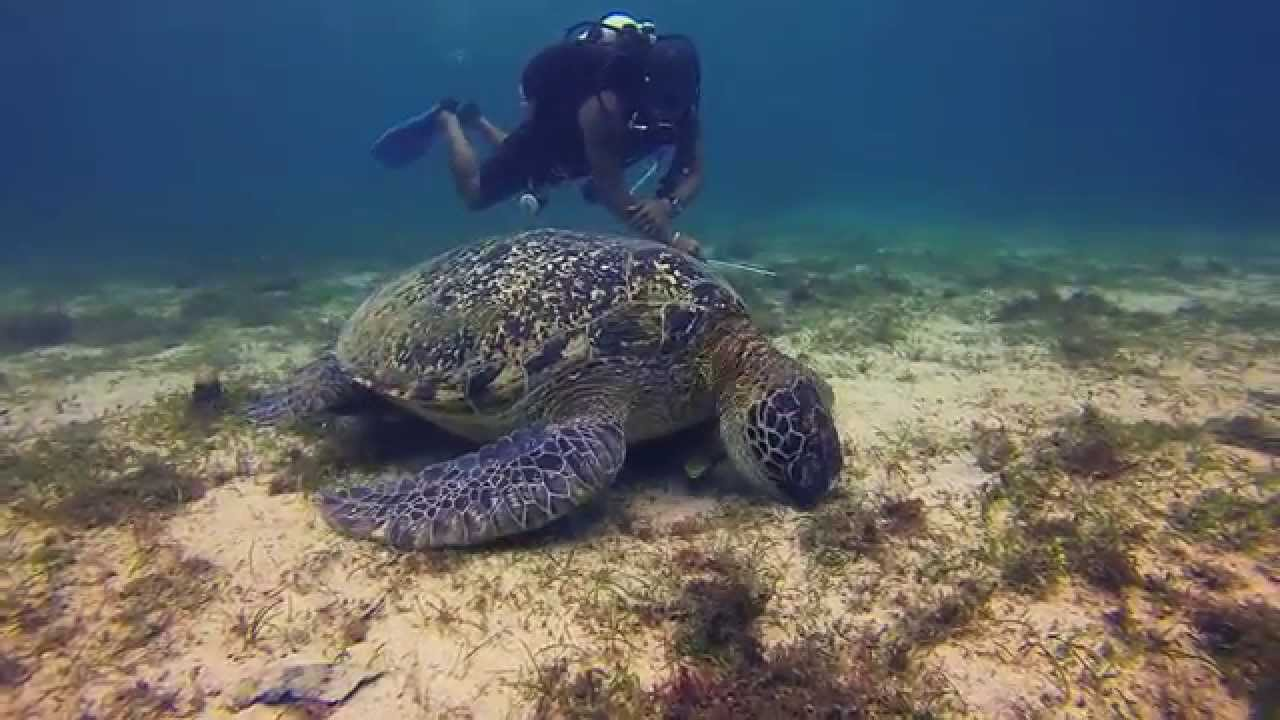trutle: (239, 216, 917, 586)
